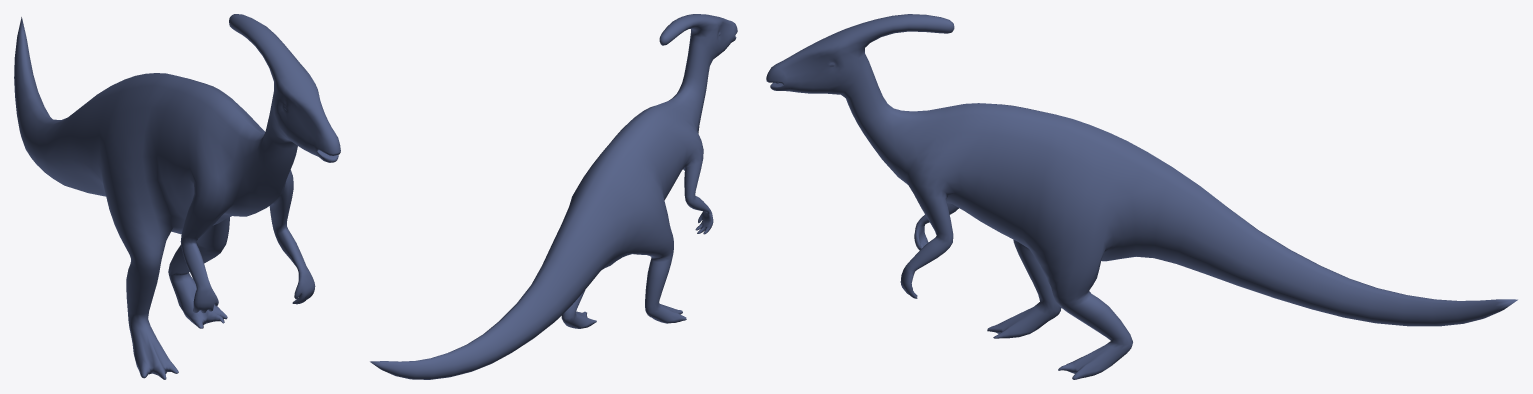
File: Parasaurolophus_Rig.fbx
The picture shows the model from 3 angles, left to right: view 1: azimuth 30°, elevation 25°; view 2: azimuth 150°, elevation 25°; view 3: azimuth 270°, elevation 25°; orthographic projection. The views are drawn at different scales.
Parts seen in each view (by area): view 1: parasaurolophus; view 2: parasaurolophus; view 3: parasaurolophus.
Boxes of the visible parts, <box> form: parasaurolophus: <box>14,14,340,379</box>; parasaurolophus: <box>370,14,737,379</box>; parasaurolophus: <box>766,14,1517,379</box>.
Size of the model in its own units: 176 by 378 by 763.
